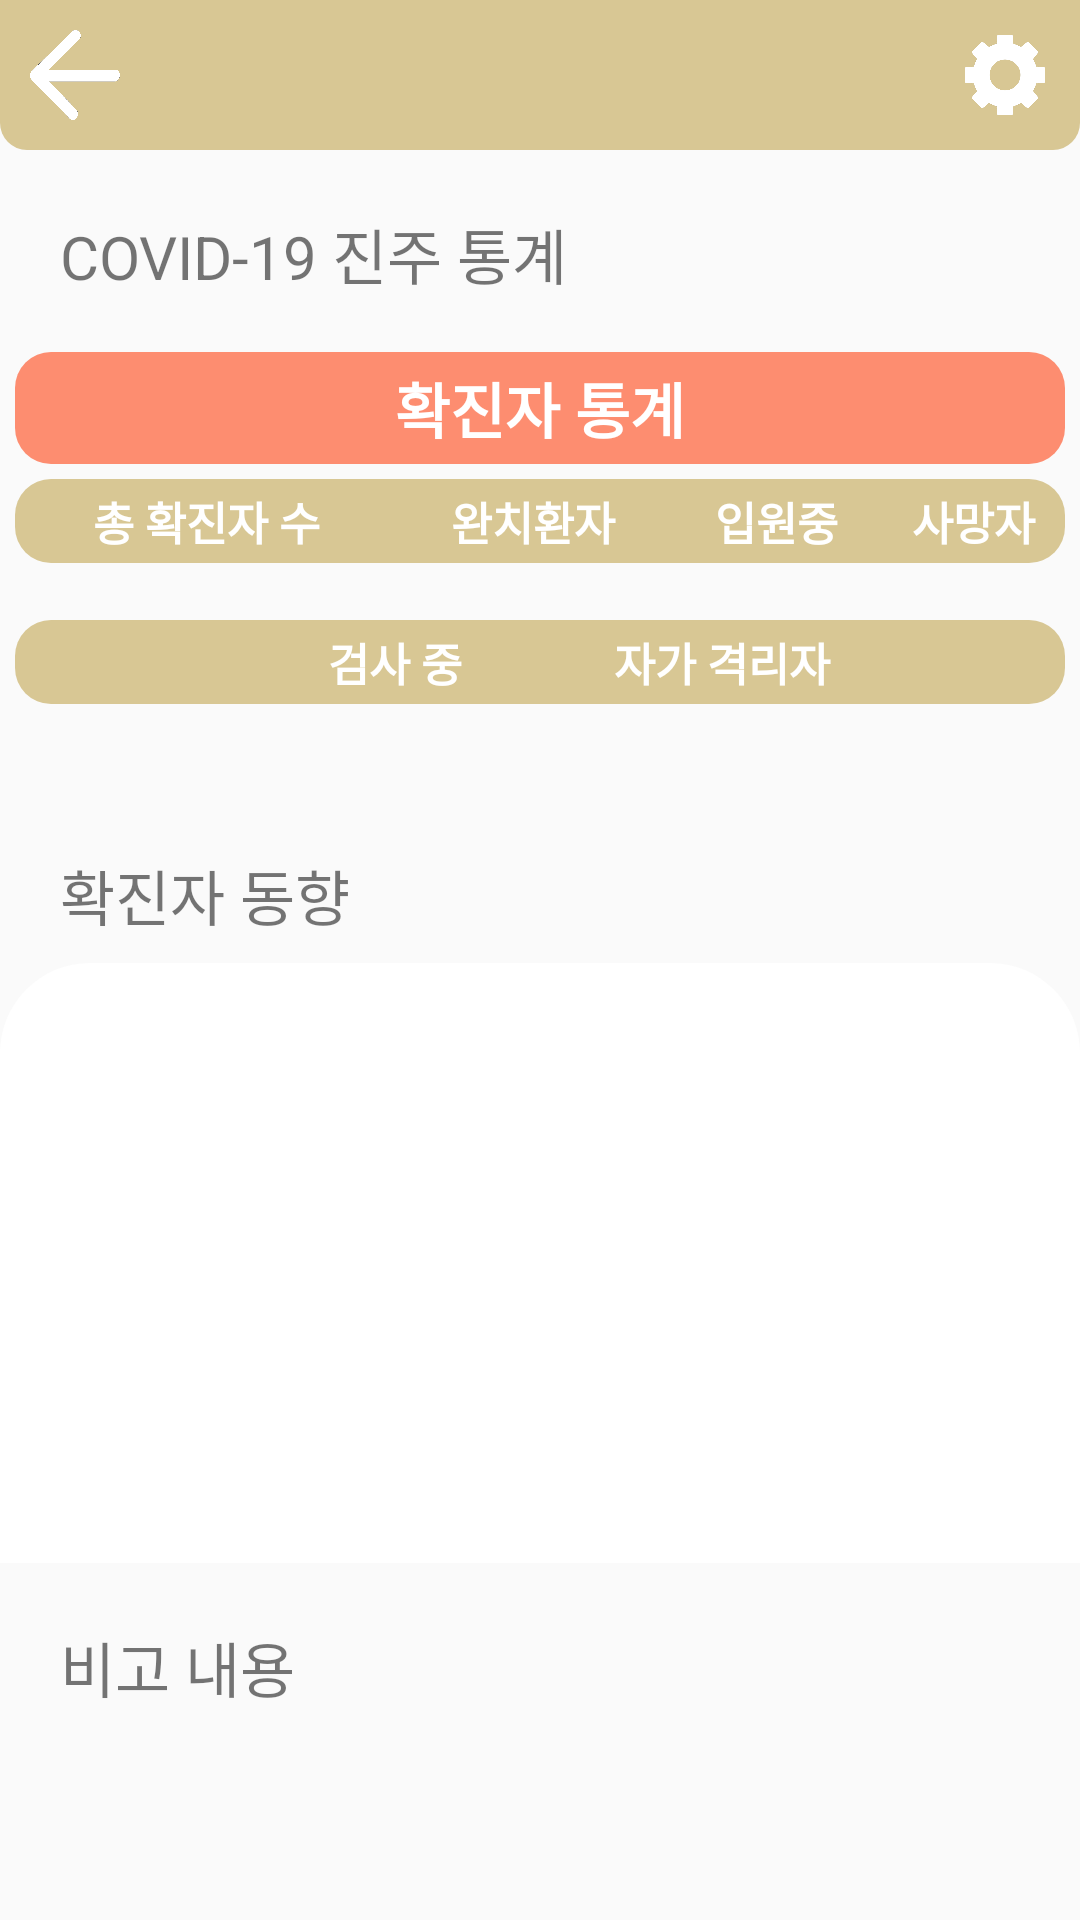

Point at icon controls on the screen. Image size 1080w x 1920h, points as [x,y].
backbutton: [75,75]
wheel: [1005,75]
